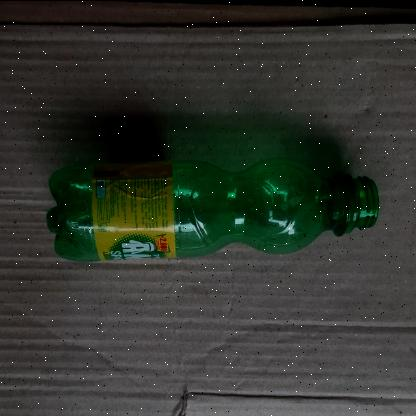Plastic Bottle: (8, 84, 400, 300)
